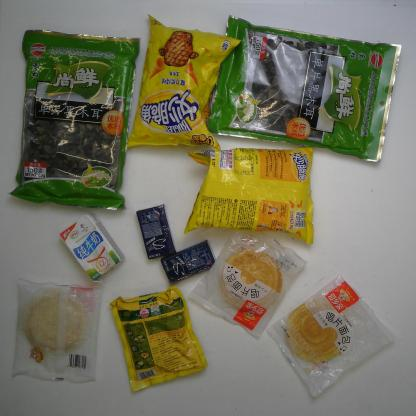Dessert: (263, 270, 399, 400), (186, 226, 308, 341), (10, 276, 105, 384)
Dried Food: (206, 13, 403, 164), (6, 28, 142, 213)
Gum: (158, 238, 218, 287), (135, 202, 178, 262)
Milk: (57, 210, 126, 286)
Puffed Food: (125, 11, 242, 156), (183, 142, 318, 246)
Seasoner: (108, 285, 210, 394)
